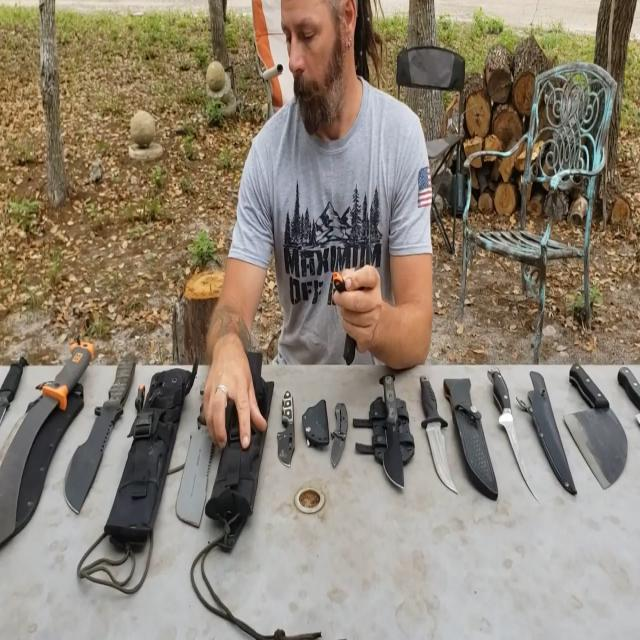knife: (0, 326, 102, 522), (60, 362, 138, 522), (171, 369, 241, 529), (477, 357, 545, 516), (550, 356, 624, 491), (408, 366, 452, 499), (373, 362, 412, 506), (268, 372, 306, 486), (325, 385, 361, 481)
